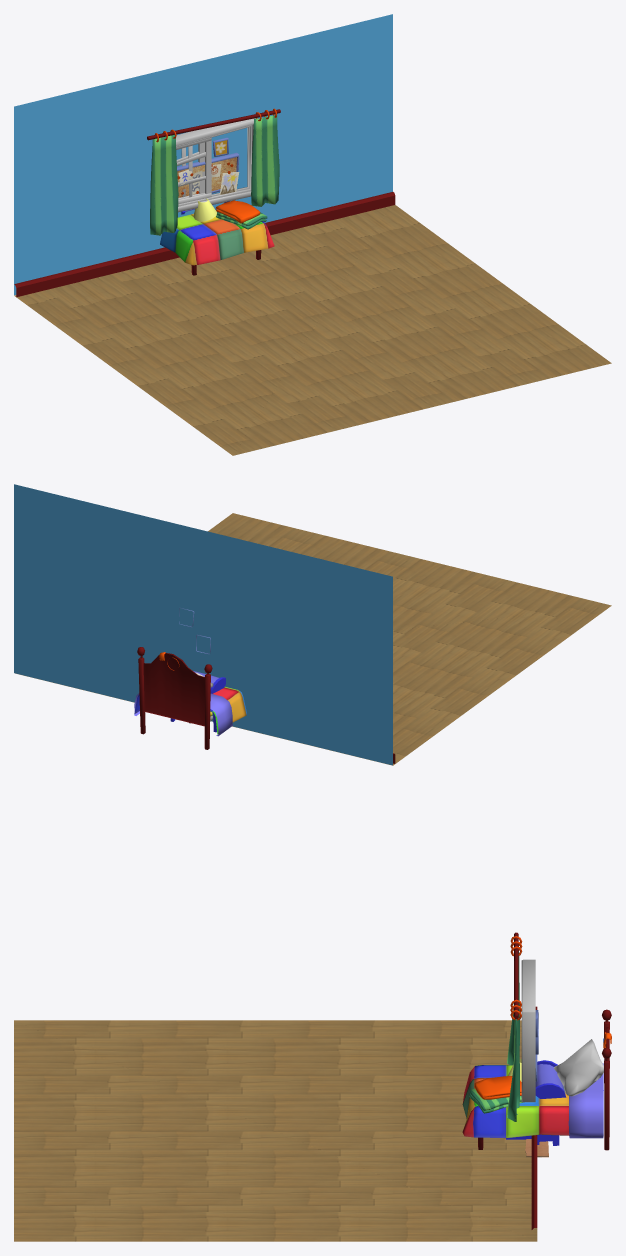
Rendered from Habitacion.FBX.
The picture shows the model from 3 angles, top to bottom: view 1: azimuth 30°, elevation 25°; view 2: azimuth 150°, elevation 25°; view 3: azimuth 270°, elevation 25°; orthographic projection. The views are drawn at different scales.
Visible parts, largest first — view 1: suelo, pared_ventana, pared, ventana, cama, corcho; view 2: pared, pared_ventana, suelo, cama; view 3: suelo, cama, ventana, baul, pared.
Part boxes in pixels (box(x1,y1,x2,y2)): suelo: box(14, 205, 611, 455); pared_ventana: box(14, 14, 395, 297); pared: box(14, 14, 395, 295); ventana: box(147, 108, 280, 235); cama: box(160, 200, 274, 275); corcho: box(177, 152, 239, 197); pared: box(14, 484, 395, 765); pared_ventana: box(14, 484, 395, 765); suelo: box(15, 513, 611, 765); cama: box(134, 647, 246, 749); suelo: box(14, 1020, 537, 1241); cama: box(462, 1009, 611, 1150); ventana: box(507, 932, 535, 1121); baul: box(535, 1060, 566, 1145); pared: box(531, 1135, 537, 1229).
Size of the model in its own units: 20 by 9.58 by 22.86.
